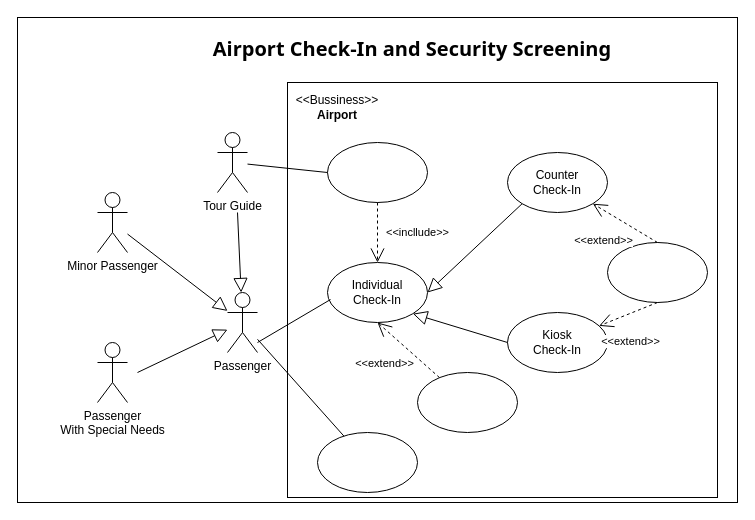
Image size: 755x520. Some labels were removed from this diagram. Here are the shapes that lost their labels. From the top down, the centre of each, then its label:
At pixel 377 172: "Group Check-In".
At pixel 657 272: "Baggage Handling".
At pixel 467 402: "Baggage Check-in".
At pixel 367 462: "Security Screening".
